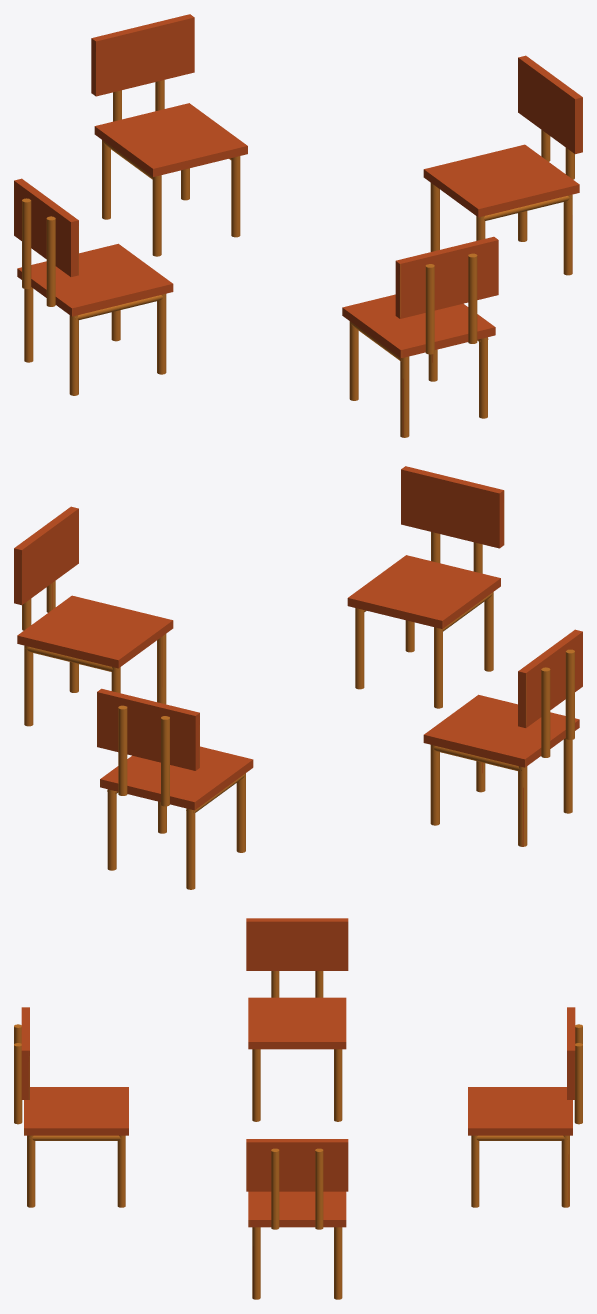
The model's file is sillaC.obj.
3 renders of one model, top to bottom at view 1: azimuth 30°, elevation 25°; view 2: azimuth 150°, elevation 25°; view 3: azimuth 270°, elevation 25°, orthographic. The views are drawn at different scales.
Visible parts, largest first — view 1: Cube.003_Cube.010, Cube.005_Cube.016, Cube.002_Cube.011, Cube.004_Cube.015; view 2: Cube.005_Cube.016, Cube.003_Cube.010, Cube.002_Cube.011, Cube.004_Cube.015; view 3: Cube.004_Cube.015, Cube.002_Cube.011, Cube.003_Cube.010, Cube.005_Cube.016.
Part boxes in pixels (x1,y1,x2,y2): Cube.003_Cube.010: (91, 14, 247, 256); Cube.005_Cube.016: (342, 236, 498, 437); Cube.002_Cube.011: (423, 55, 582, 275); Cube.004_Cube.015: (14, 178, 173, 395); Cube.005_Cube.016: (347, 466, 504, 708); Cube.003_Cube.010: (97, 688, 253, 889); Cube.002_Cube.011: (14, 506, 173, 726); Cube.004_Cube.015: (423, 629, 582, 846); Cube.004_Cube.015: (246, 918, 348, 1121); Cube.002_Cube.011: (246, 1139, 348, 1299); Cube.003_Cube.010: (468, 1007, 582, 1207); Cube.005_Cube.016: (14, 1007, 128, 1207).
Bounding box in the file's own units: 24.01 × 7.75 × 25.03.
1 material, 1 textured.
